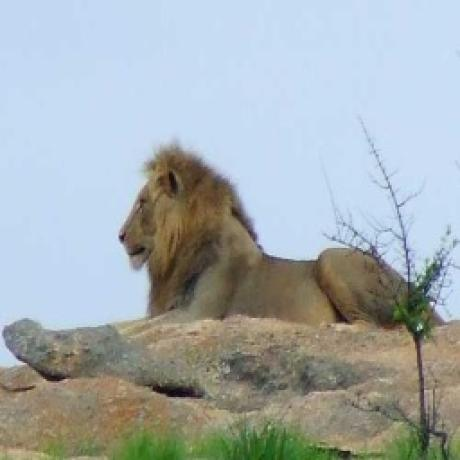Lion: (118, 142, 444, 328)
